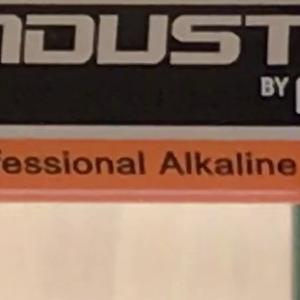keyword: (150, 142, 202, 185)
